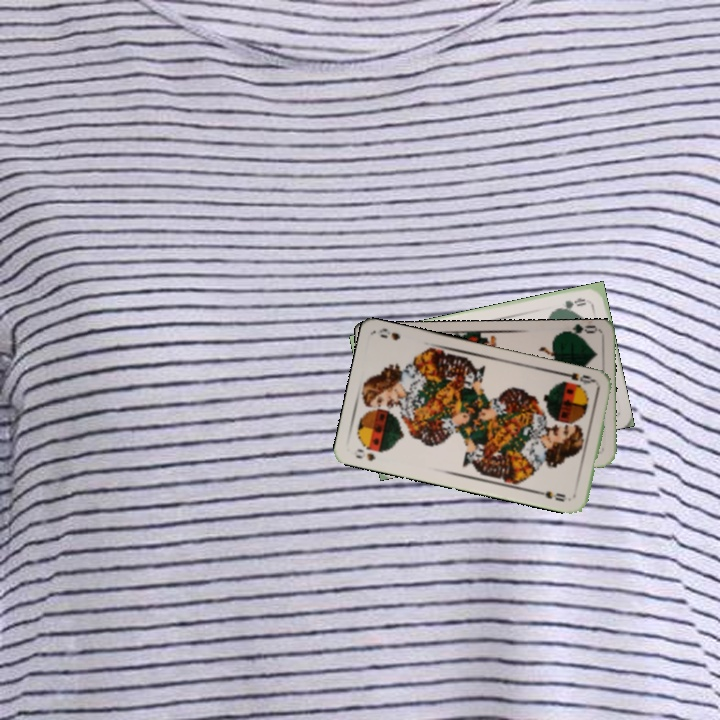GO: (558, 323, 599, 342), (551, 294, 588, 314)
SO: (558, 369, 599, 387), (352, 445, 378, 463)
